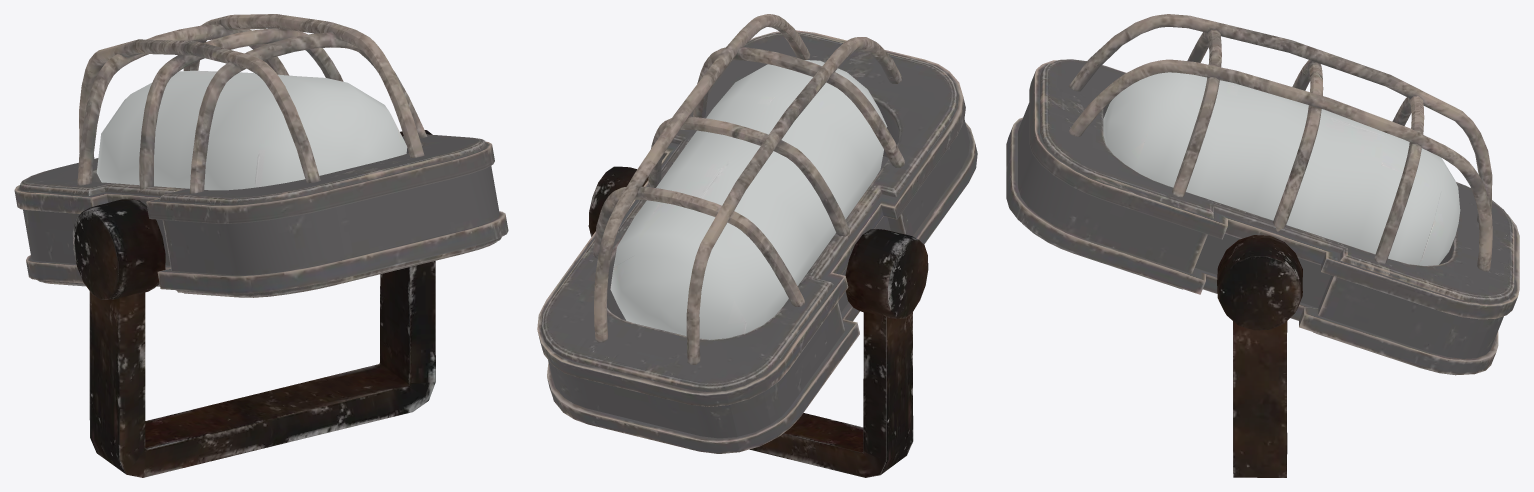
The picture shows the model from 3 angles, left to right: view 1: azimuth 30°, elevation 25°; view 2: azimuth 150°, elevation 25°; view 3: azimuth 270°, elevation 25°; orthographic projection. The views are drawn at different scales.
Visible parts, largest first — view 1: 1__0; view 2: 1__0; view 3: 1__0.
Part boxes in pixels (left/top/right/bottom): 1__0: left=14, top=14, right=508, bottom=477; 1__0: left=537, top=14, right=977, bottom=477; 1__0: left=1006, top=14, right=1519, bottom=477.
Bounding box in the file's own units: 0.5252 × 0.6245 × 0.7629.
1 material, 1 textured.
